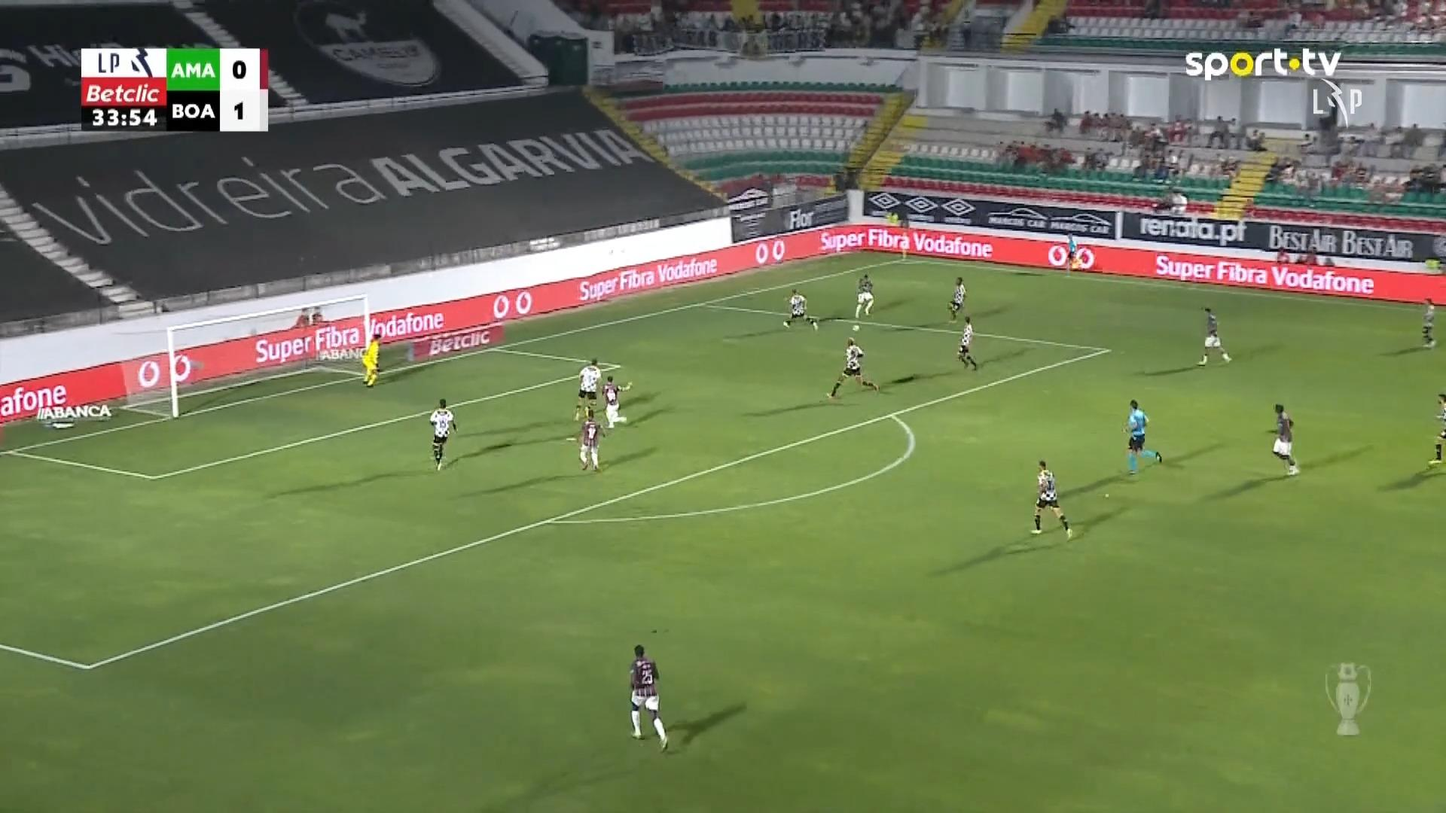ball: (851, 324, 859, 331)
goalkeeper: (360, 331, 381, 387)
player: (627, 643, 669, 751), (825, 336, 879, 398), (1030, 458, 1071, 539), (428, 397, 456, 470), (1197, 306, 1231, 366), (1271, 403, 1299, 475), (572, 357, 601, 421), (577, 409, 605, 472), (601, 374, 633, 428), (781, 288, 818, 330), (1427, 391, 1445, 467), (956, 315, 978, 370), (853, 273, 874, 319), (947, 276, 967, 321), (1420, 297, 1436, 348)
referee: (1122, 398, 1162, 473), (1065, 234, 1078, 275)
